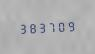eight: (27, 21, 36, 34)
nine: (68, 18, 77, 32)
seven: (48, 19, 57, 33)
three: (17, 21, 26, 35), (38, 20, 47, 34)
zero: (58, 19, 67, 32)
